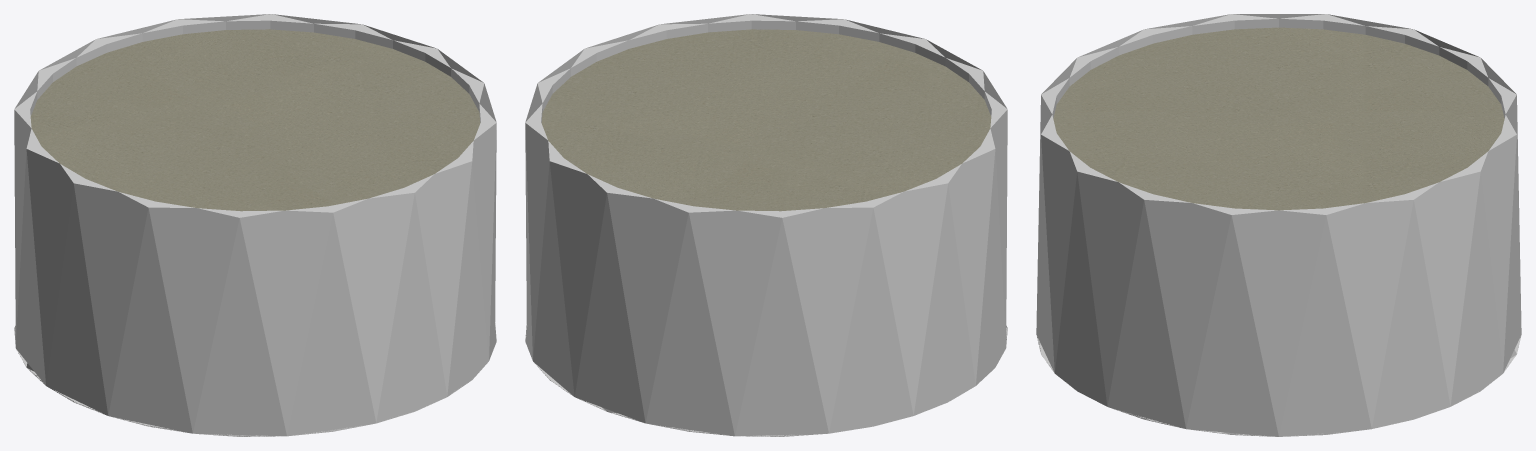
File: DrumPad.fbx
The picture shows the model from 3 angles, left to right: view 1: azimuth 30°, elevation 25°; view 2: azimuth 150°, elevation 25°; view 3: azimuth 270°, elevation 25°; orthographic projection.
Visible parts, largest first — view 1: DrumPad; view 2: DrumPad; view 3: DrumPad.
Part boxes in pixels (x1,y1,x2,y2): DrumPad: [14, 14, 496, 436]; DrumPad: [525, 14, 1007, 436]; DrumPad: [1036, 14, 1521, 436].
Bounding box in the file's own units: 30 × 15 × 30.
